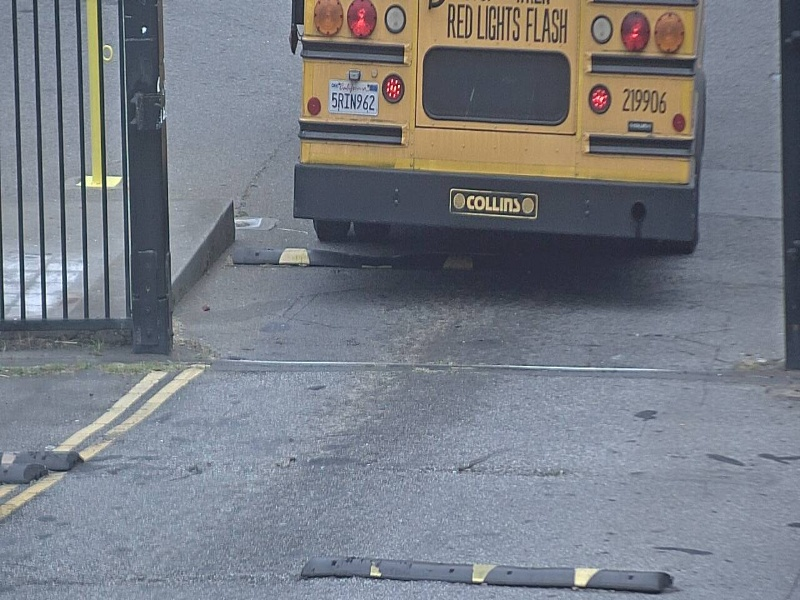licence plate: (327, 78, 380, 117)
